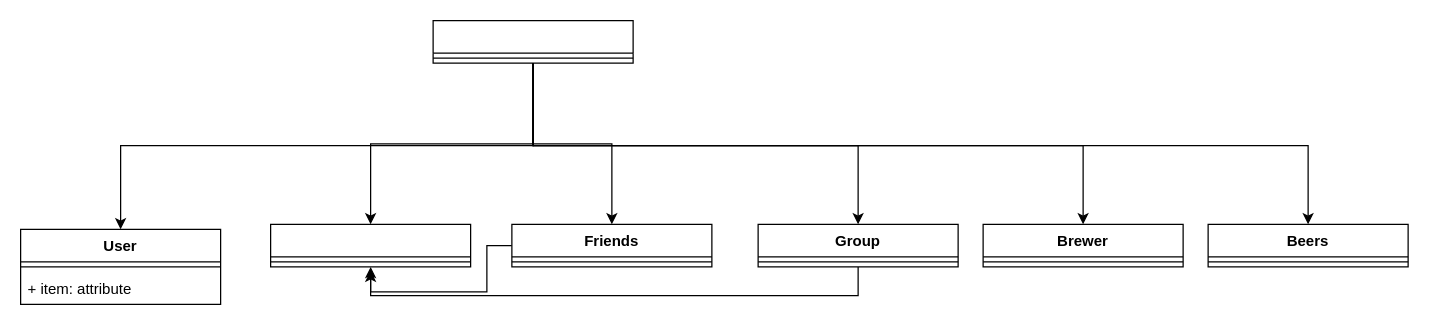
The diagram is 1429 pixels wide and 325 high, and some of its shapes have lost their labels. The shapes that lost their labels are listed below. From the top down, each one's box as (x1, y1, x2, y2) in pixels, then its label:
(432, 19, 633, 63): ModelHolder
(269, 223, 471, 267): CheckInHandler
